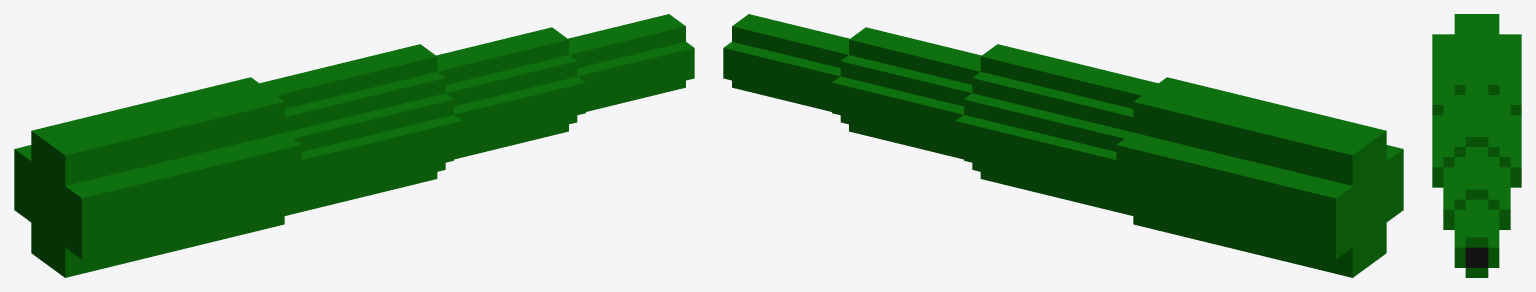
The model's file is Tank1-0.obj.
3 renders of one model, left to right at view 1: azimuth 30°, elevation 25°; view 2: azimuth 150°, elevation 25°; view 3: azimuth 270°, elevation 25°, orthographic. The views are drawn at different scales.
Size of the model in its own units: 4.3 by 0.8 by 0.8.
Materials: 1 (1 with a texture image).
